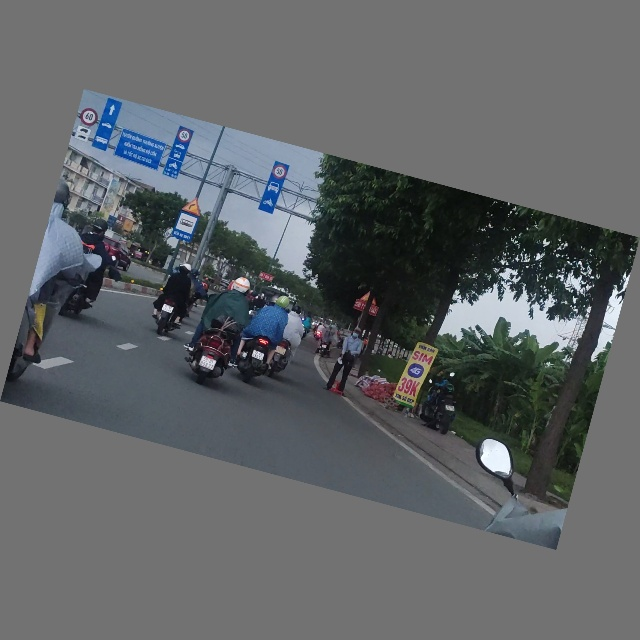I.434a: (172, 211, 199, 243)
P.127*50: (271, 164, 288, 181), (176, 128, 192, 145)
P.127*60: (78, 107, 100, 129)
S.505a*Xe tai va cong: (74, 125, 91, 143)
W.201b: (181, 195, 204, 217)
